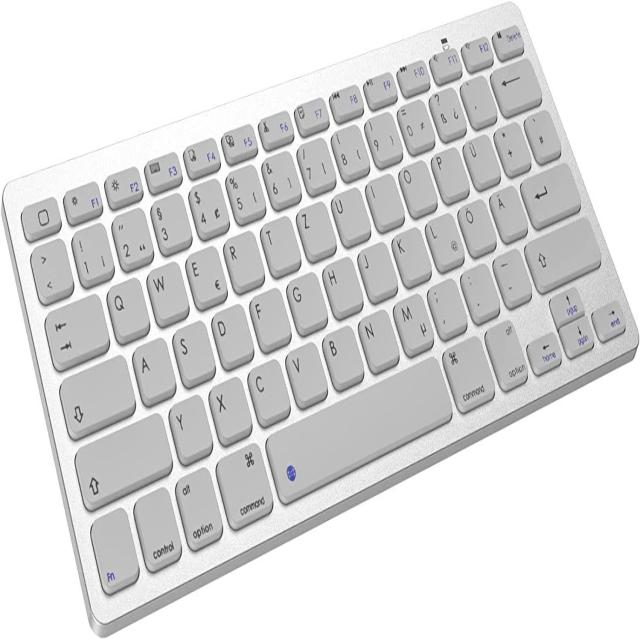0: (397, 94, 435, 148)
1: (72, 219, 114, 281)
2: (110, 204, 153, 264)
3: (149, 189, 191, 248)
4: (188, 173, 229, 233)
5: (224, 160, 265, 218)
6: (260, 147, 301, 202)
7: (296, 133, 336, 188)
8: (330, 120, 369, 175)
9: (364, 107, 402, 161)
a: (131, 334, 176, 400)
accent: (460, 71, 497, 123)
ae: (488, 182, 527, 237)
alt-left: (173, 462, 224, 547)
altgr-right: (483, 316, 528, 387)
b: (320, 321, 364, 384)
c: (246, 356, 291, 421)
caret: (30, 236, 72, 297)
comma: (426, 274, 467, 336)
d: (210, 300, 254, 364)
del: (489, 56, 541, 111)
e: (183, 241, 227, 303)
enter: (519, 159, 580, 224)
f: (248, 284, 291, 346)
g: (285, 268, 327, 329)
h: (321, 253, 363, 313)
hash: (523, 109, 562, 163)
i: (365, 168, 404, 226)
j: (357, 237, 398, 298)
k: (391, 223, 432, 282)
keyboard: (2, 0, 639, 637)
l: (425, 208, 464, 268)
m: (392, 290, 434, 351)
minus: (491, 245, 530, 304)
n: (357, 304, 399, 369)
o: (397, 155, 437, 213)
oe: (457, 195, 496, 251)
p: (430, 142, 469, 199)
plus: (493, 120, 532, 176)
point: (459, 260, 500, 319)
q: (105, 272, 150, 337)
r: (222, 226, 264, 286)
s: (171, 316, 216, 381)
shift-left: (74, 412, 172, 506)
shift-lock: (58, 349, 135, 434)
shift-right: (525, 214, 601, 293)
space: (265, 354, 451, 503)
ss: (428, 83, 466, 136)
strg-left: (134, 485, 184, 574)
t: (259, 211, 301, 272)
tab: (43, 290, 108, 367)
u: (330, 183, 371, 242)
ue: (462, 129, 501, 186)
v: (284, 338, 328, 402)
w: (146, 256, 188, 321)
x: (207, 374, 251, 439)
y: (168, 391, 213, 458)
z: (295, 197, 336, 255)
